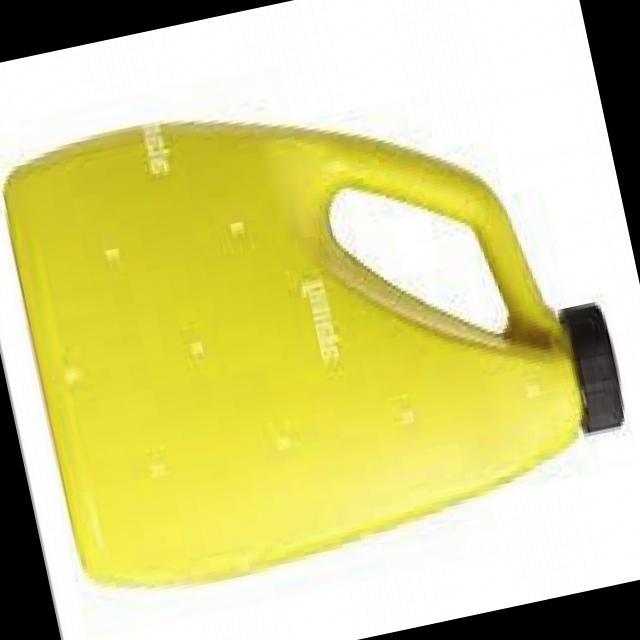HDPE Plastic: (0, 119, 627, 595)
